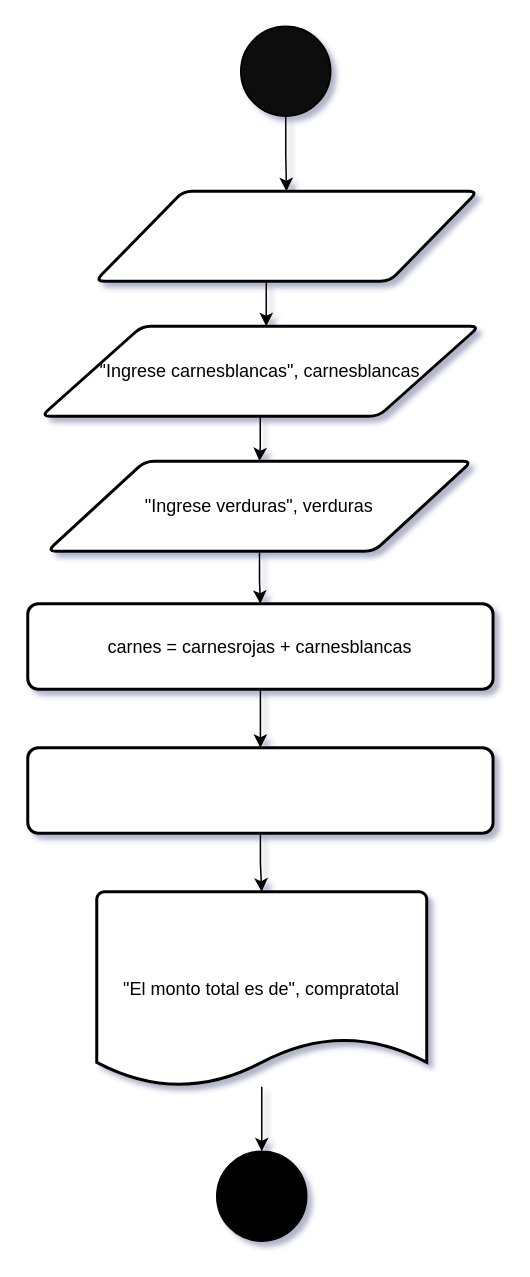
Some shapes in this 530 by 1277 pixel diagram are drawn without their labels. Here are the shapes that lost their labels. From the top down, the centre of each, then its label:
point (285, 235): "Ingrese carnesrojas", carnesrojas
point (260, 790): compratotal = carnes + verduras
